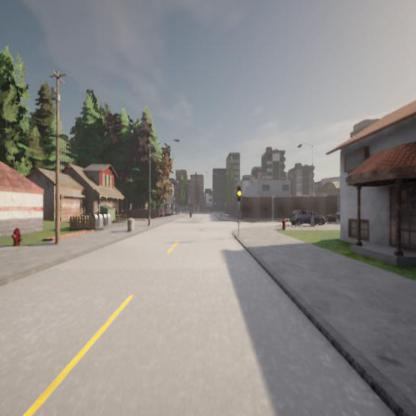traffic_light_orange: (237, 188, 242, 200)
vehicle: (290, 209, 325, 226)
